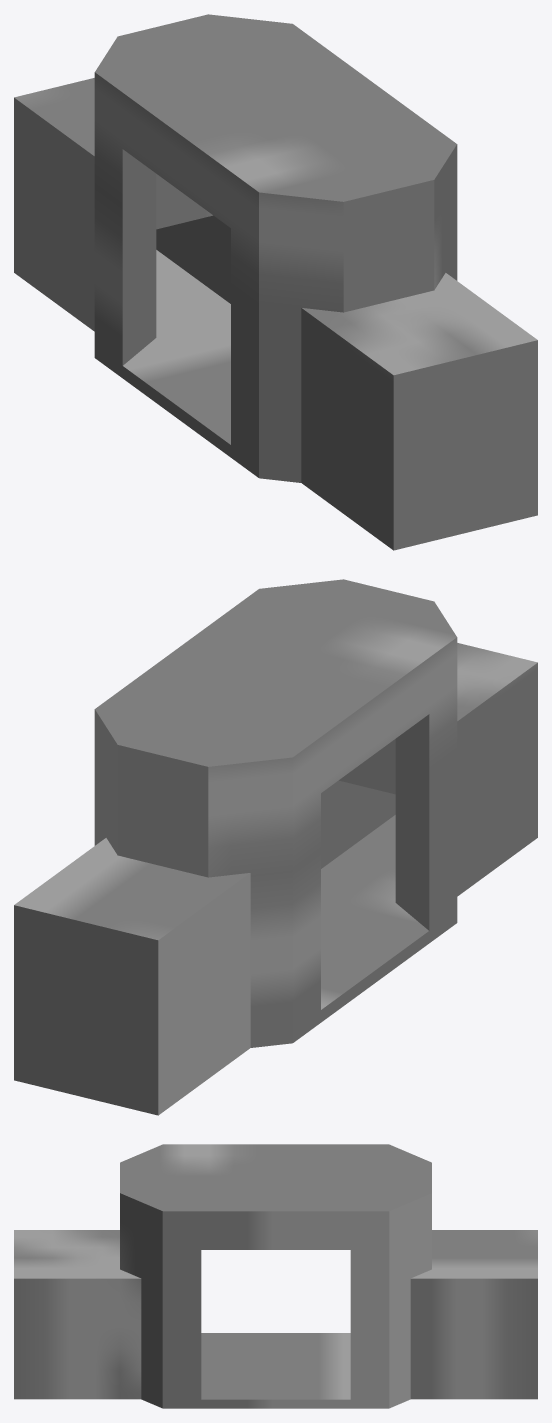
File: Portal.fbx
The picture shows the model from 3 angles, top to bottom: view 1: azimuth 30°, elevation 25°; view 2: azimuth 150°, elevation 25°; view 3: azimuth 270°, elevation 25°; orthographic projection. The views are drawn at different scales.
Visible parts, largest first — view 1: Portal; view 2: Portal; view 3: Portal.
Part boxes in pixels (bbox=[...]): Portal: bbox=[14, 14, 537, 550]; Portal: bbox=[14, 579, 537, 1115]; Portal: bbox=[14, 1144, 537, 1408].
Size of the model in its own units: 986 by 1360 by 3274.
